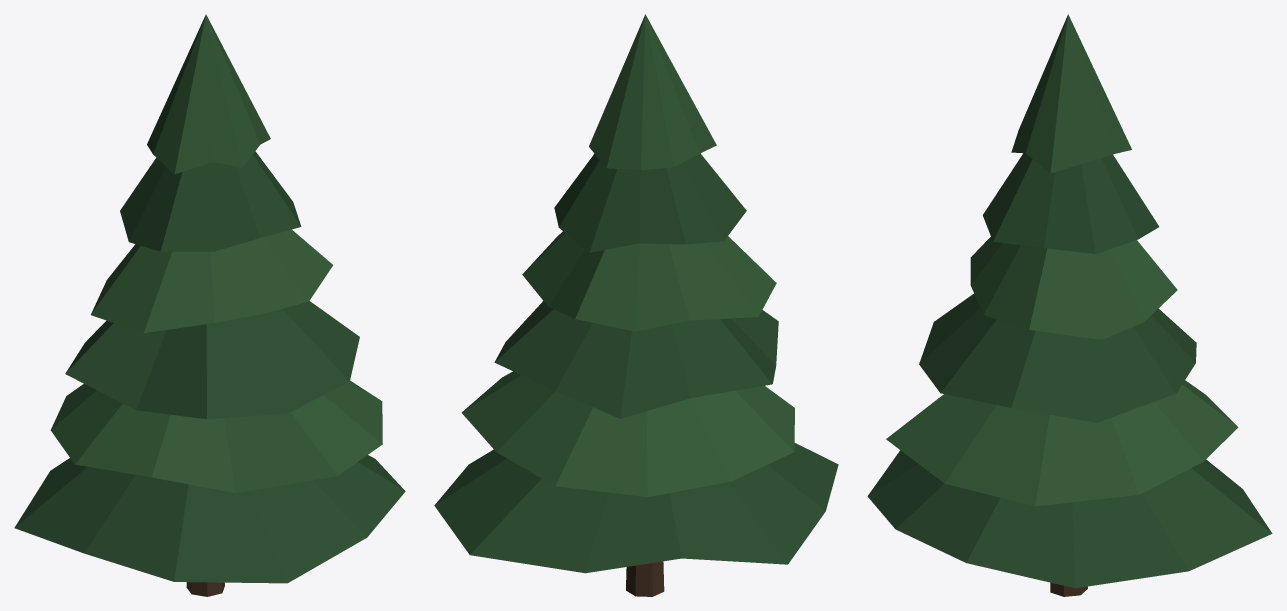
File: pine1.glb
The picture shows the model from 3 angles, left to right: view 1: azimuth 30°, elevation 25°; view 2: azimuth 150°, elevation 25°; view 3: azimuth 270°, elevation 25°; orthographic projection.
Visible parts, largest first — view 1: Tree; view 2: Tree; view 3: Tree.
Part boxes in pixels (<box>): Tree: <box>14,14,405,596</box>; Tree: <box>434,14,838,596</box>; Tree: <box>867,14,1272,596</box>.
Bounding box in the file's own units: 4.77 × 7.7 × 4.92.
